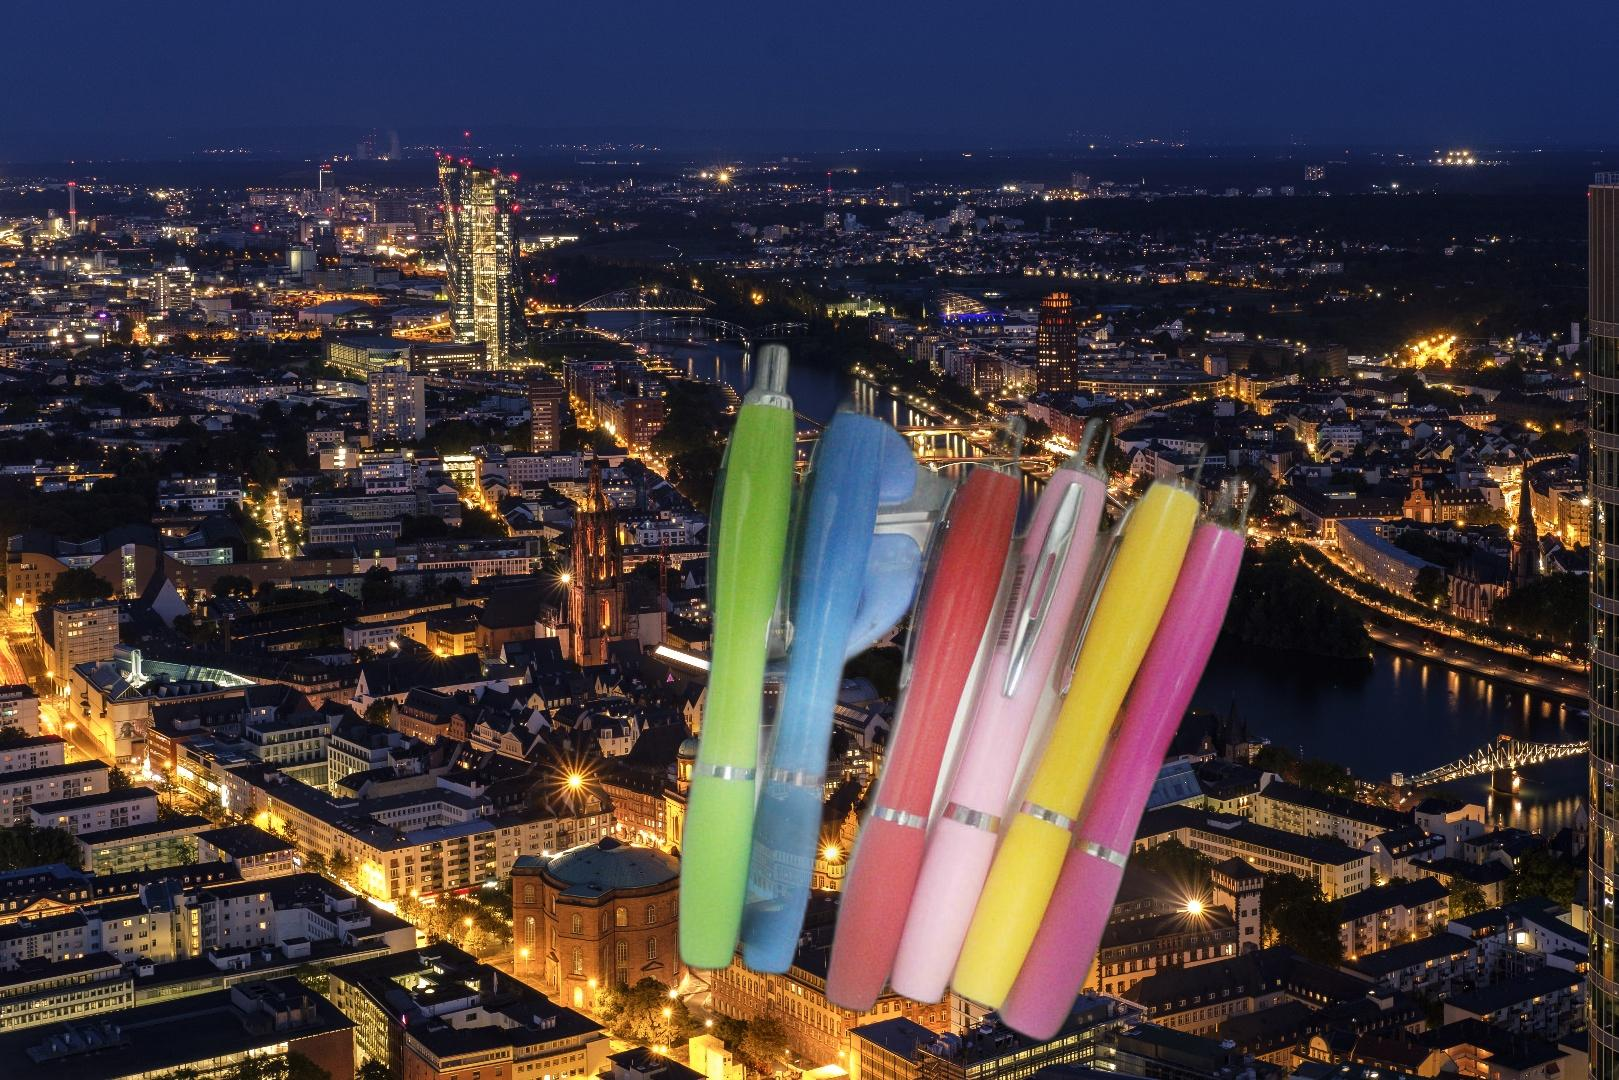penholder: (663, 336, 1283, 1049)
